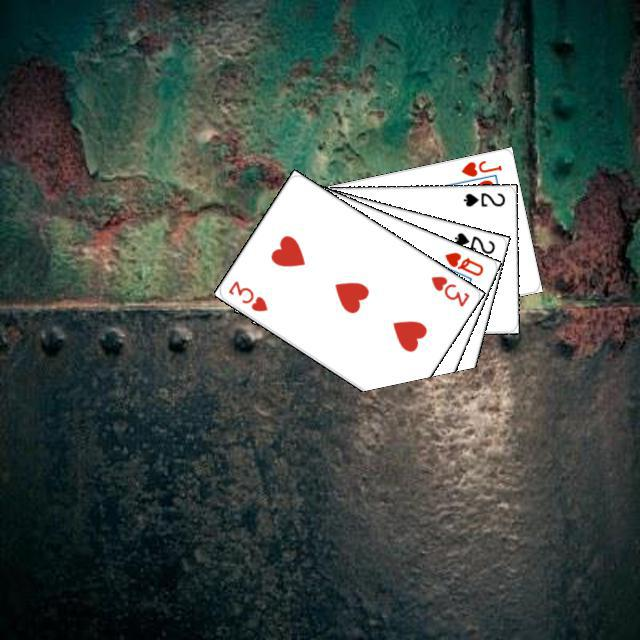2s: (449, 227, 497, 256), (459, 188, 506, 208)
3h: (223, 275, 269, 313), (426, 271, 471, 308)
Jh: (456, 155, 504, 178)
Qh: (439, 247, 485, 278)
